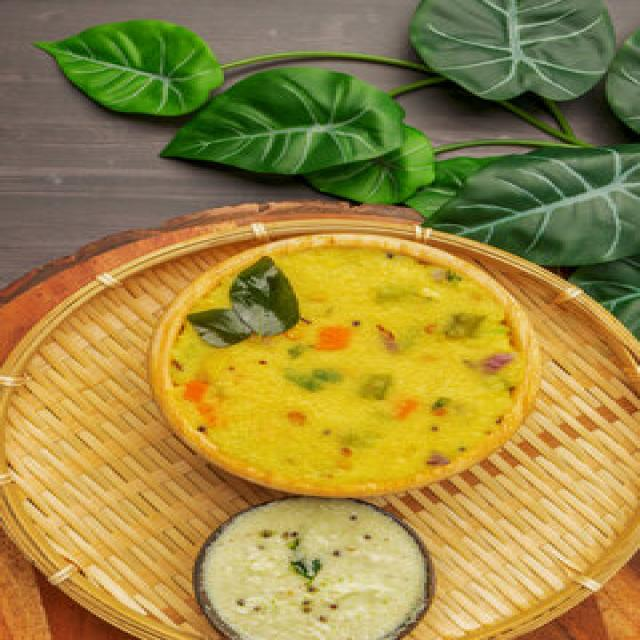UPMA: (152, 244, 536, 494)
